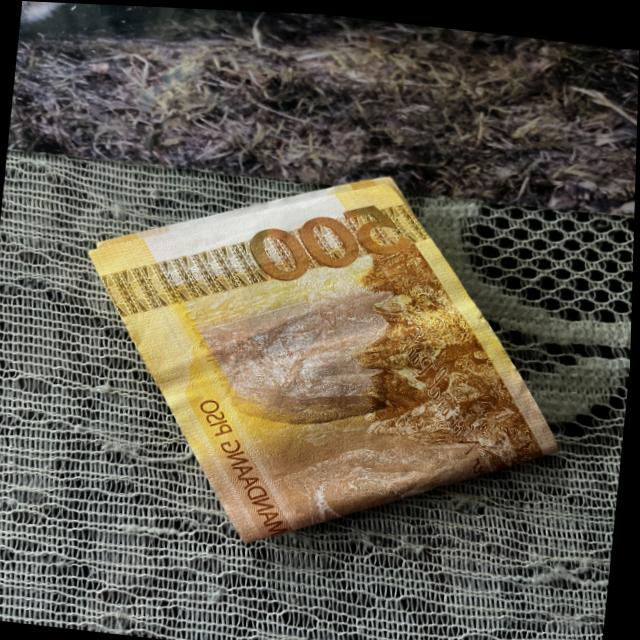value: (246, 182, 413, 294)
